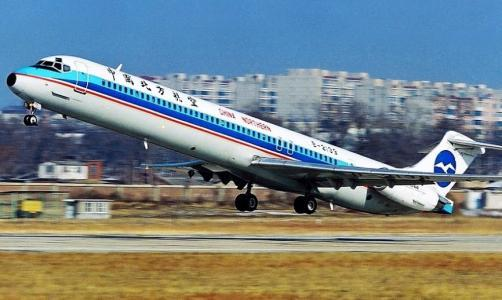airplane: (4, 54, 498, 216)
